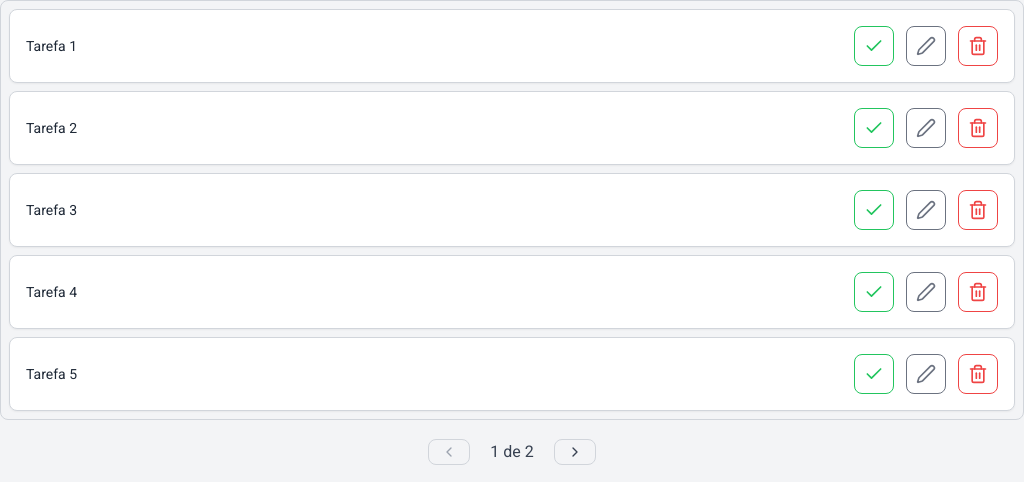
Test: TaskList Component › should render tasks and handle pagination
Check: the text "Tarefa 1" is shown, box [26,38,77,54]
Check: the text "Tarefa 2" is shown, box [26,120,77,136]
Click the button named "Próxima página".
click(575, 452)  # box [554,439,596,465]
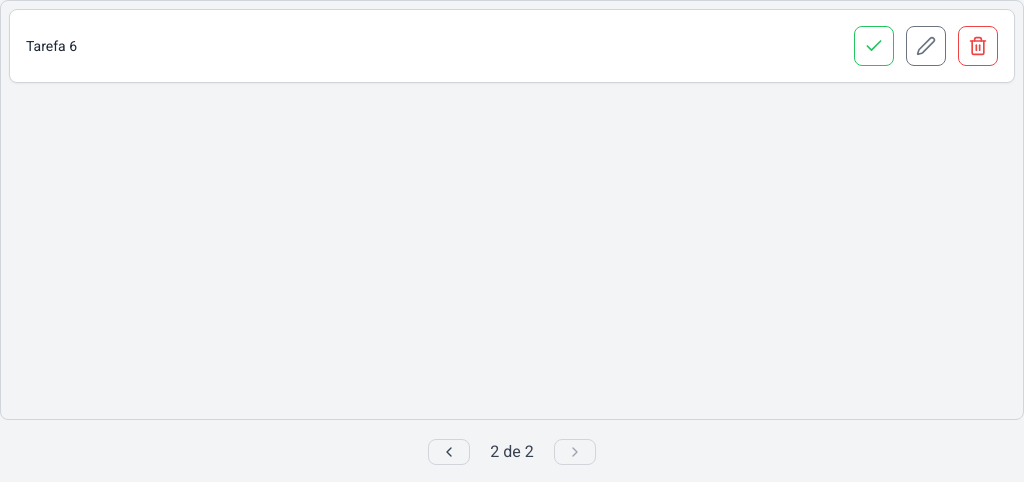
Check: the text "Tarefa 6" is shown, box [26,38,77,54]
Check: the text "Tarefa 1" is gone
Check: the text "Tarefa 2" is gone
